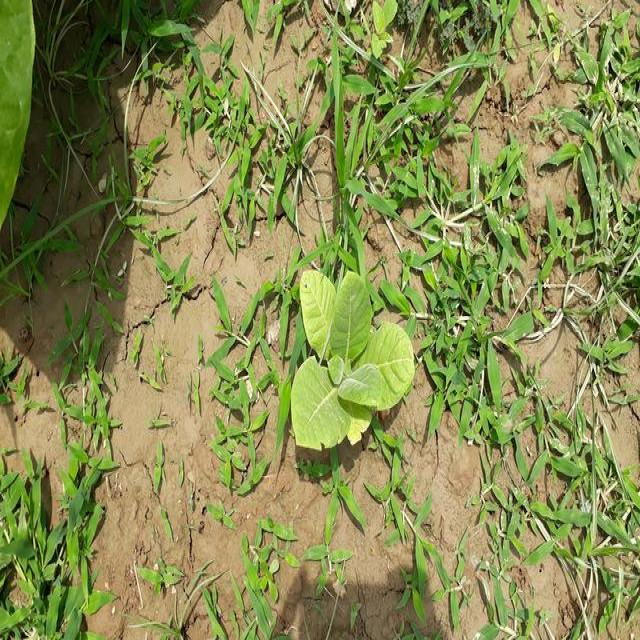crop: (290, 258, 420, 457)
